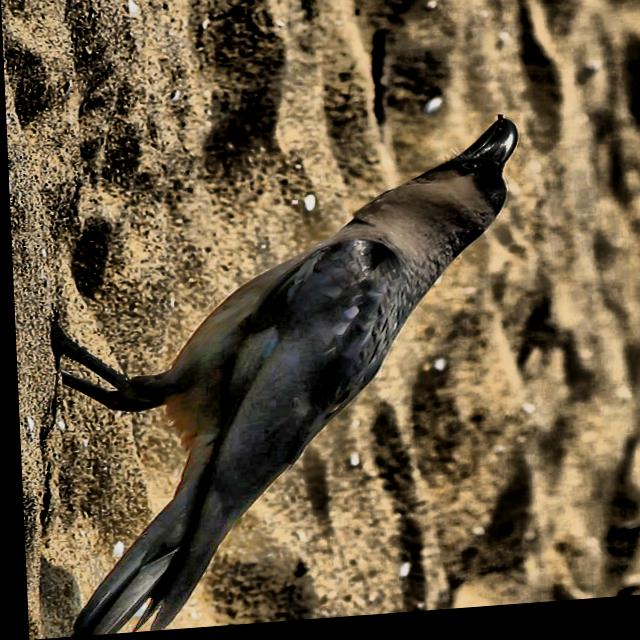crow: (31, 99, 555, 638)
